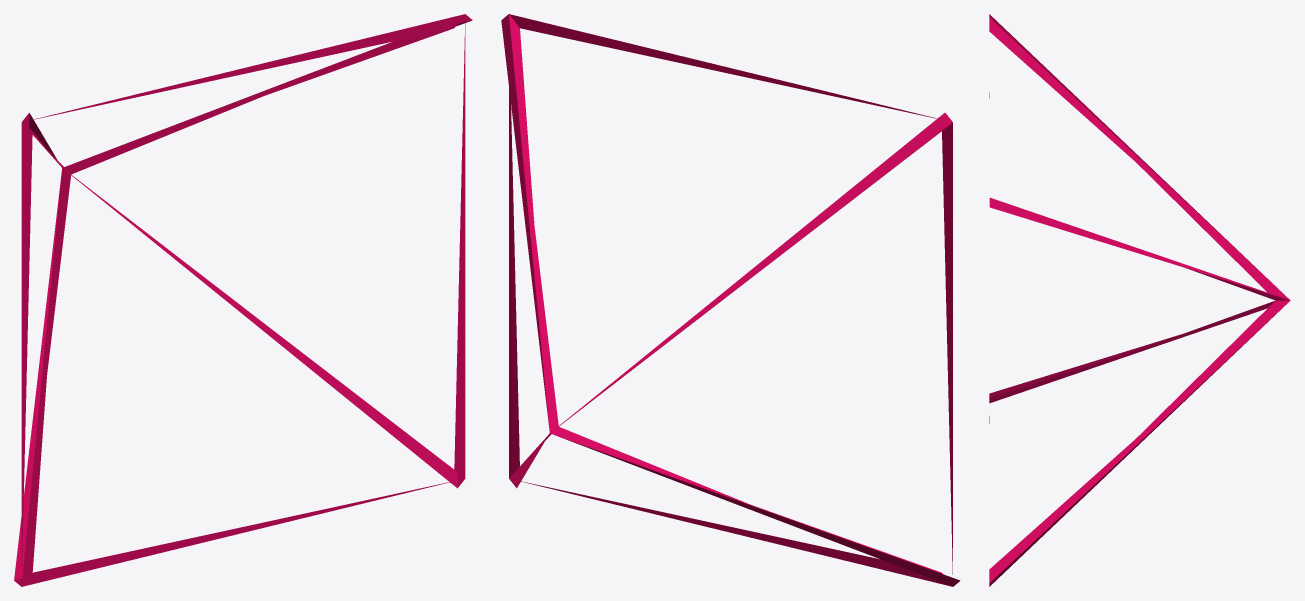
The picture shows the model from 3 angles, left to right: view 1: azimuth 30°, elevation 25°; view 2: azimuth 150°, elevation 25°; view 3: azimuth 270°, elevation 25°; orthographic projection. The views are drawn at different scales.
Parts seen in each view (by area): view 1: world; view 2: world; view 3: world.
Boxes of the visible parts, x1,y1,x2,y2 form: world: [14, 14, 472, 586]; world: [501, 14, 960, 586]; world: [989, 14, 1290, 586].
Bounding box in the file's own units: 0.2032 × 0.2032 × 0.139.
